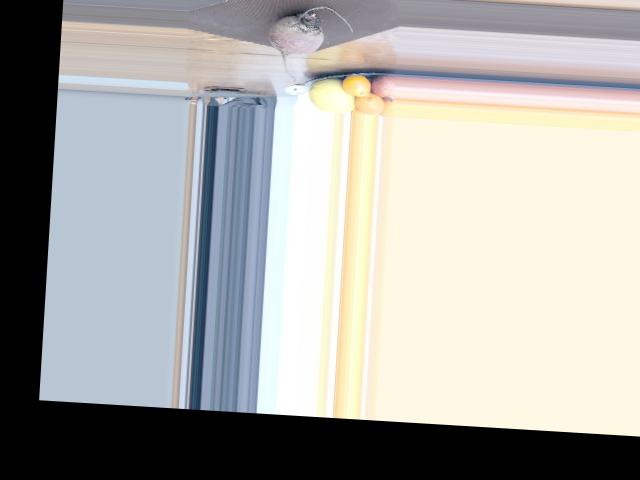beet: (266, 3, 354, 81)
